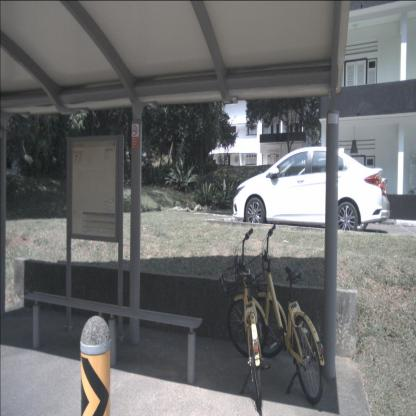vehicle-bicycle: (247, 224, 325, 406), (218, 228, 269, 411)
vehicle-car: (233, 146, 390, 233)
